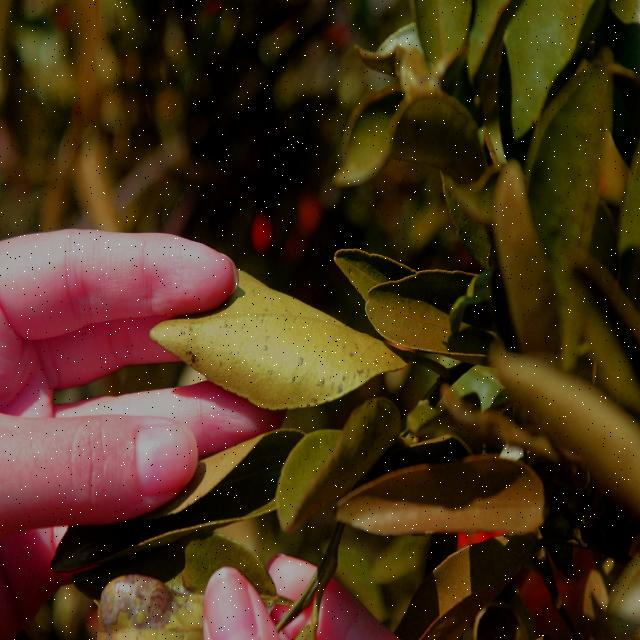melanose: (176, 306, 383, 420)
